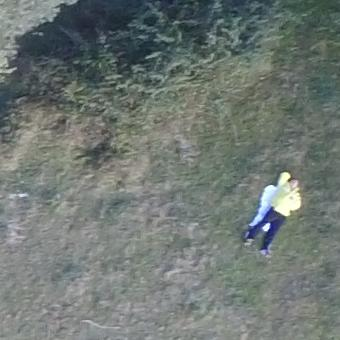human: (241, 175, 310, 255)
